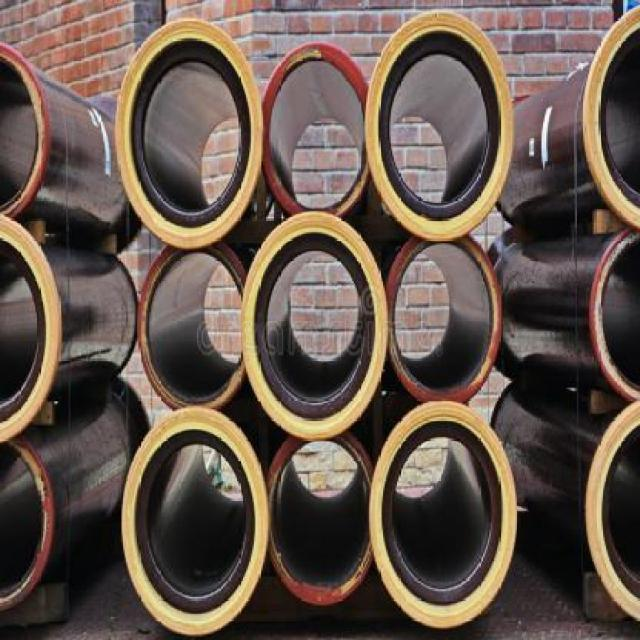pipe: (114, 19, 263, 250), (365, 11, 514, 240), (368, 400, 517, 628), (122, 407, 270, 636), (242, 212, 388, 440), (385, 237, 502, 403), (263, 42, 369, 219), (137, 240, 246, 411), (266, 437, 374, 603), (2, 215, 64, 443), (581, 4, 640, 227), (580, 402, 640, 621), (587, 227, 640, 401), (2, 43, 51, 216), (2, 445, 51, 610)
